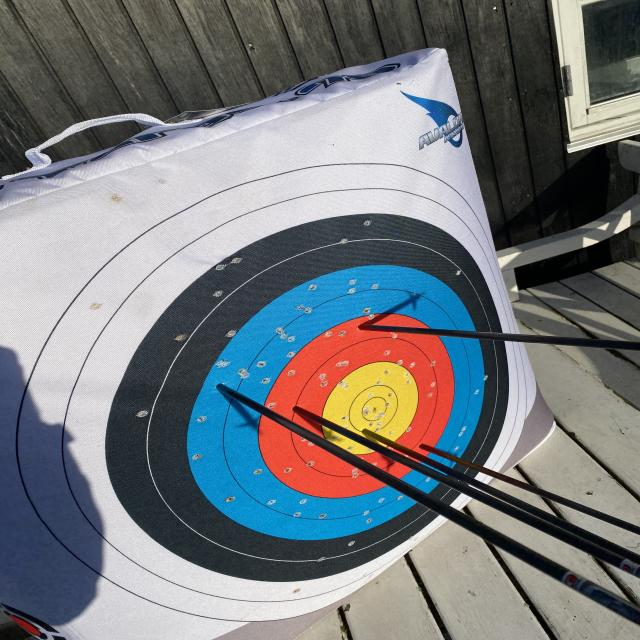Arrow_Blue: (208, 361, 245, 414)
Arrow_Red: (284, 396, 320, 429), (343, 316, 381, 344), (416, 430, 439, 462)
Arrow_Yellow: (346, 414, 387, 442)
